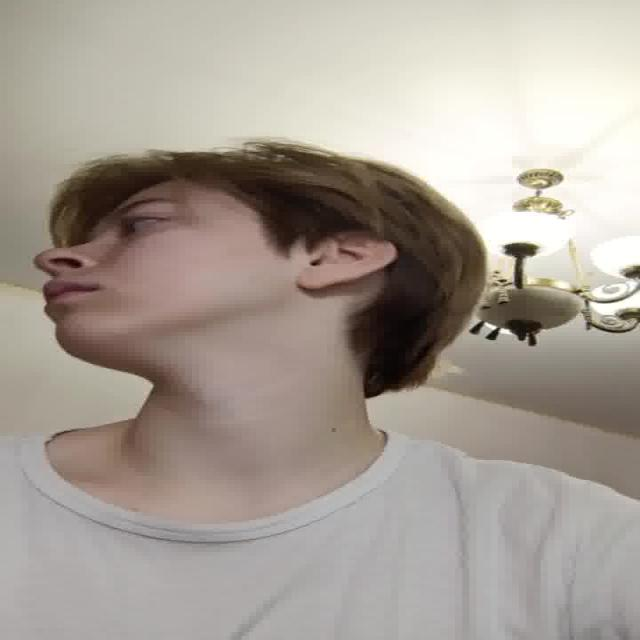earlobe: (297, 231, 397, 290)
